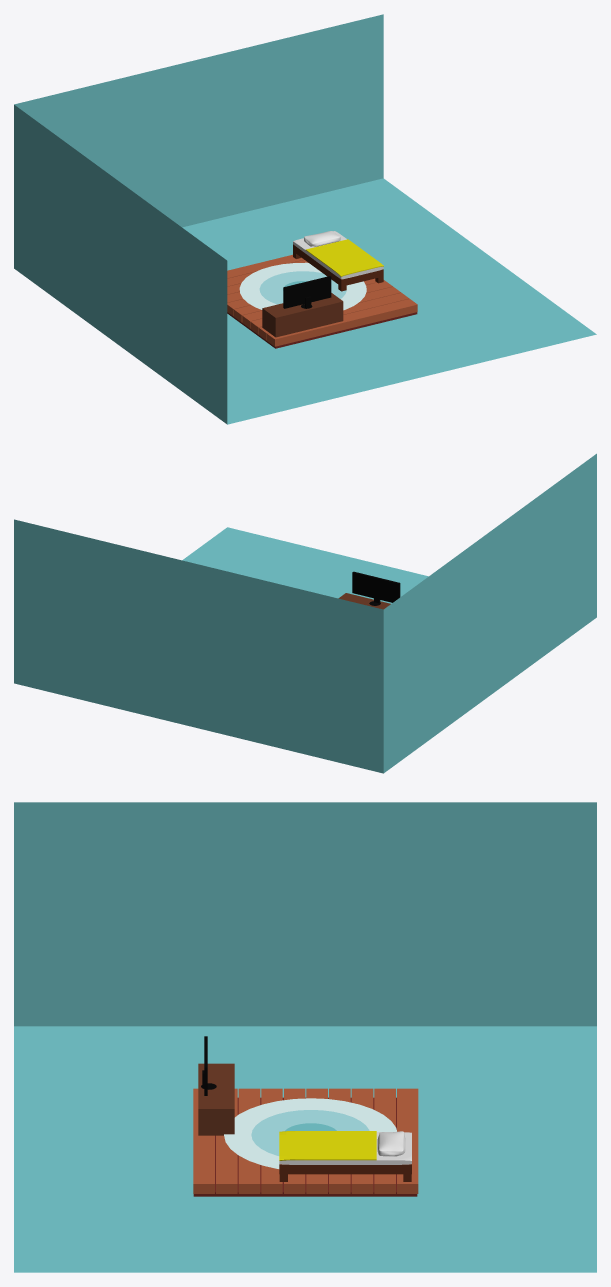
The picture shows the model from 3 angles, top to bottom: view 1: azimuth 30°, elevation 25°; view 2: azimuth 150°, elevation 25°; view 3: azimuth 270°, elevation 25°; orthographic projection. The views are drawn at different scales.
Visible parts, largest first — view 1: Cube.007, Cube.002, carpet, Cube.004, Plane.002, Cube.005, bedbottom, Cube.001; view 2: Cube.007, Cube.005; view 3: Cube.007, Cube.002, carpet, Plane.002, Cube.004, Cube.001, bedbottom, bedtop, Plane.001, Cube.003.
Part boxes in pixels (x1=…): Cube.007: x1=14, y1=14, x2=596, y2=424; Cube.002: x1=227, y1=255, x2=417, y2=346; carpet: x1=239, y1=262, x2=366, y2=310; Cube.004: x1=262, y1=293, x2=343, y2=337; Plane.002: x1=306, y1=239, x2=383, y2=276; Cube.005: x1=283, y1=276, x2=331, y2=308; bedbottom: x1=293, y1=244, x2=383, y2=286; Cube.001: x1=227, y1=255, x2=304, y2=278; Cube.007: x1=14, y1=453, x2=596, y2=773; Cube.005: x1=352, y1=571, x2=400, y2=602; Cube.007: x1=14, y1=802, x2=596, y2=1272; Cube.002: x1=193, y1=1088, x2=395, y2=1193; carpet: x1=224, y1=1098, x2=396, y2=1168; Plane.002: x1=279, y1=1131, x2=376, y2=1160; Cube.004: x1=198, y1=1063, x2=234, y2=1135; Cube.001: x1=397, y1=1088, x2=418, y2=1193; bedbottom: x1=279, y1=1164, x2=411, y2=1174; bedtop: x1=279, y1=1132, x2=411, y2=1164; Plane.001: x1=193, y1=1192, x2=417, y2=1196; Cube.003: x1=377, y1=1131, x2=405, y2=1156.
Size of the model in its own units: 15.8 by 6.71 by 15.8.
